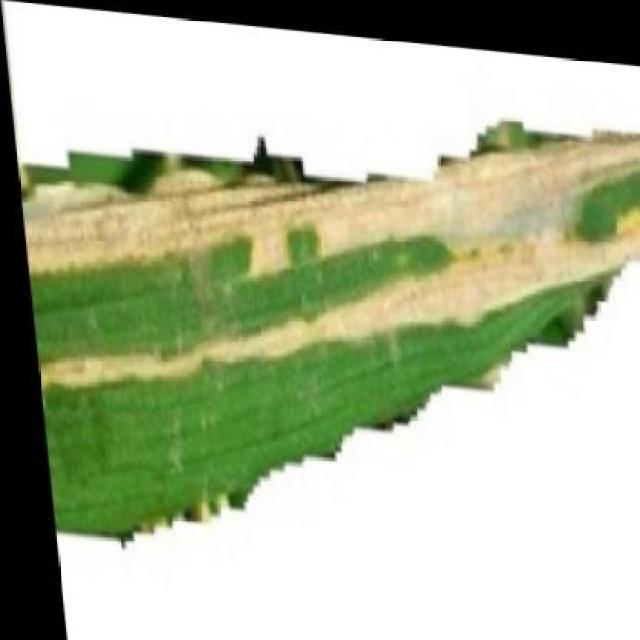Brown_Spot: (4, 57, 640, 586)
